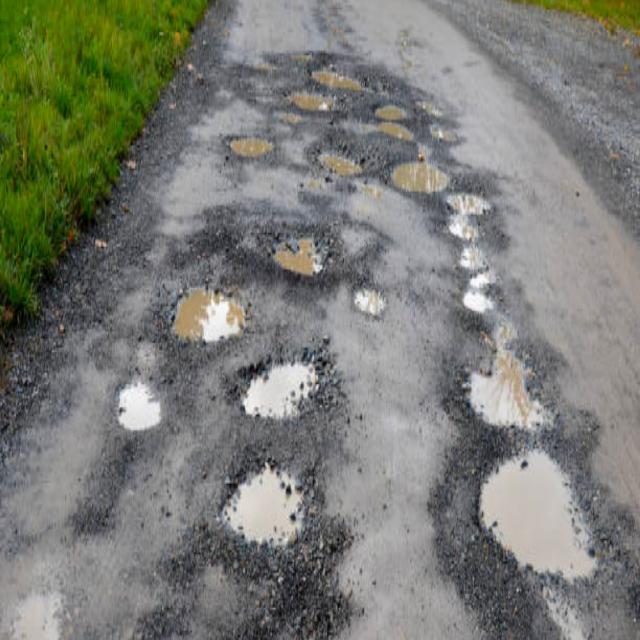Pothole: (479, 454, 594, 577), (389, 154, 493, 218), (470, 347, 531, 429), (236, 470, 296, 543), (172, 291, 244, 343), (243, 365, 311, 419), (287, 69, 367, 113), (118, 385, 160, 433), (274, 239, 315, 278), (461, 288, 496, 328), (315, 151, 364, 177), (379, 106, 412, 138), (227, 138, 273, 160), (352, 291, 385, 320)
